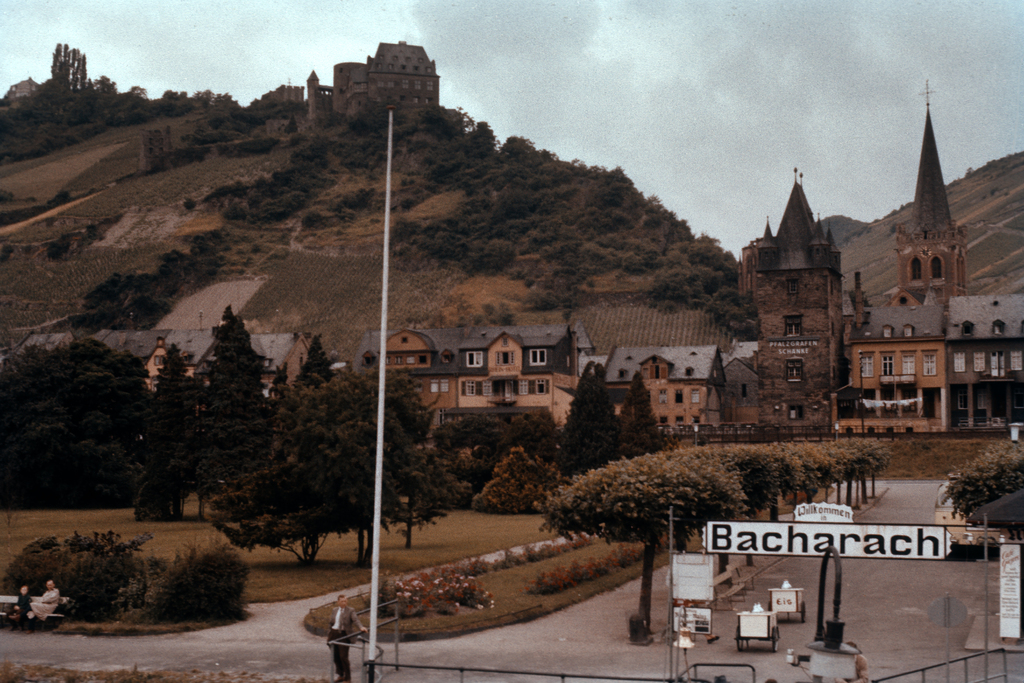Tree: (0, 68, 768, 342), (144, 307, 668, 571), (539, 436, 896, 636), (12, 303, 155, 511), (940, 437, 1023, 524)
